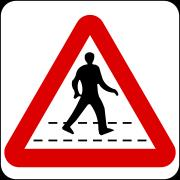Pedestrian Crossing: (9, 17, 173, 168)
